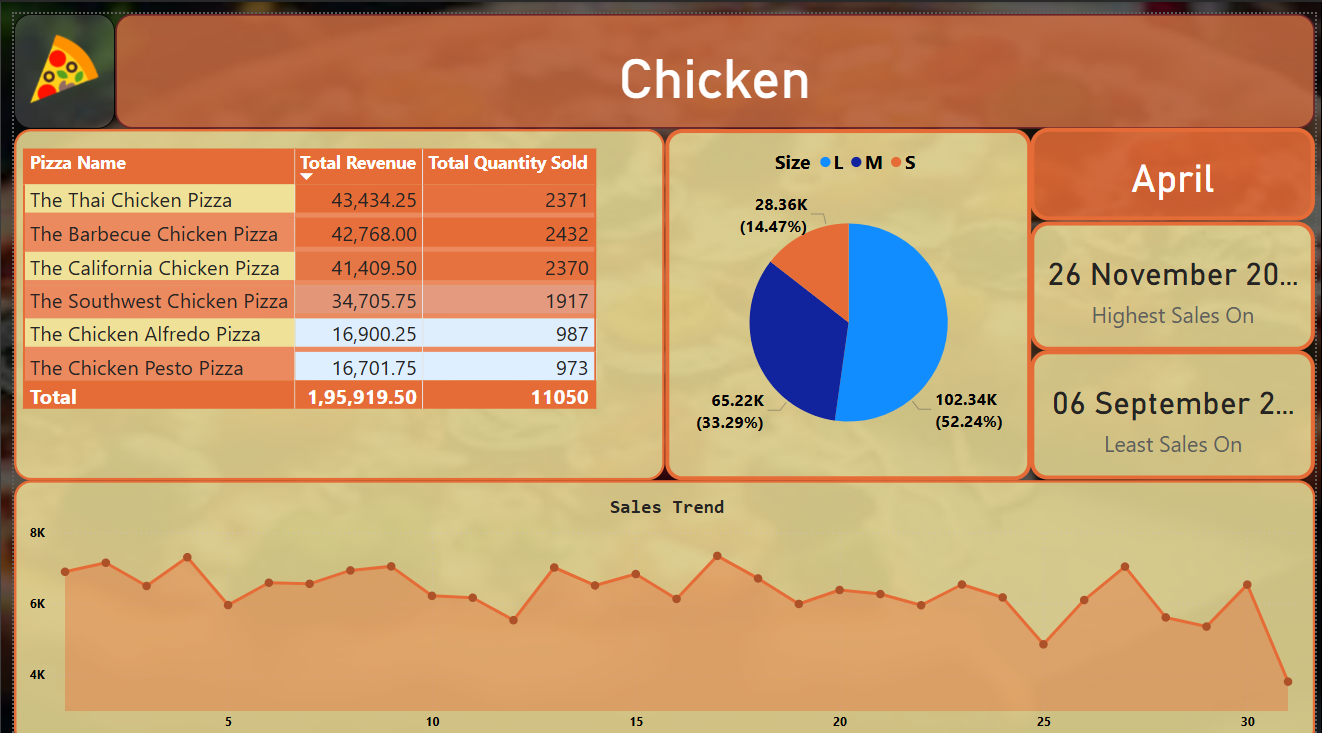

What the dashboard file says about the page in this screenshot:
{"tool":"powerbi","page":{"name":"Category Details","canvas":[1280,720],"ordinal":1},"visuals":[{"type":"card","fields":{"Values":["Max(pizza_types.category)"]},"box":[99.6,0,1180.2,112.5],"z":0},{"type":"lineChart","title":"Sales Trend","fields":{"Y":["order_details.Total_Sales"],"Category":["orders.date.Variation.Date Hierarchy.Month","orders.date.Variation.Date Hierarchy.Day"]},"box":[0,459,1280,261.2],"z":1000},{"type":"actionButton","box":[0,0,99.6,112.5],"z":2000},{"type":"tableEx","fields":{"Values":["pizza_types.name","order_details.Total_Sales","Sum(order_details.quantity)"]},"box":[0,112.9,640,345.7],"z":3000},{"type":"pieChart","fields":{"Y":["order_details.Total_Sales"],"Category":["pizzas.size"]},"box":[640,112.9,360,345.7],"z":4000},{"type":"card","title":"Highest Sales","fields":{"Values":["Min(orders.date)"]},"box":[1000,203.8,280,127.5],"z":5000},{"type":"card","fields":{"Values":["Min(orders.date)"]},"box":[1000,331.2,280,127.5],"z":6000},{"type":"card","fields":{"Values":["Min(orders.date.Variation.Date Hierarchy.Month)"]},"box":[1000,112.5,280,91.2],"z":6001}]}

Visuals, with their boxes in screenshot pixels (x1, y1, x2, y2), scaled from the page's 1280x720 canvas onto the 1322x733 screenshot:
card - Max(pizza_types.category): x1=103, y1=0, x2=1321, y2=115
"Sales Trend" lineChart: x1=0, y1=467, x2=1321, y2=732
actionButton: x1=0, y1=0, x2=103, y2=115
tableEx - pizza_types.name x order_details.Total_Sales: x1=0, y1=115, x2=661, y2=467
pieChart - order_details.Total_Sales x pizzas.size: x1=661, y1=115, x2=1033, y2=467
"Highest Sales" card: x1=1033, y1=207, x2=1321, y2=337
card - Min(orders.date): x1=1033, y1=337, x2=1321, y2=467
card - Min(orders.date.Variation.Date Hierarchy.Month): x1=1033, y1=115, x2=1321, y2=207
